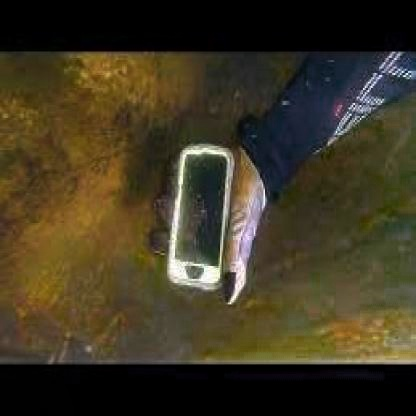cellphone: (167, 141, 236, 292)
